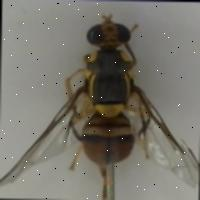Oriental-fruit-fly: (0, 6, 199, 195)
